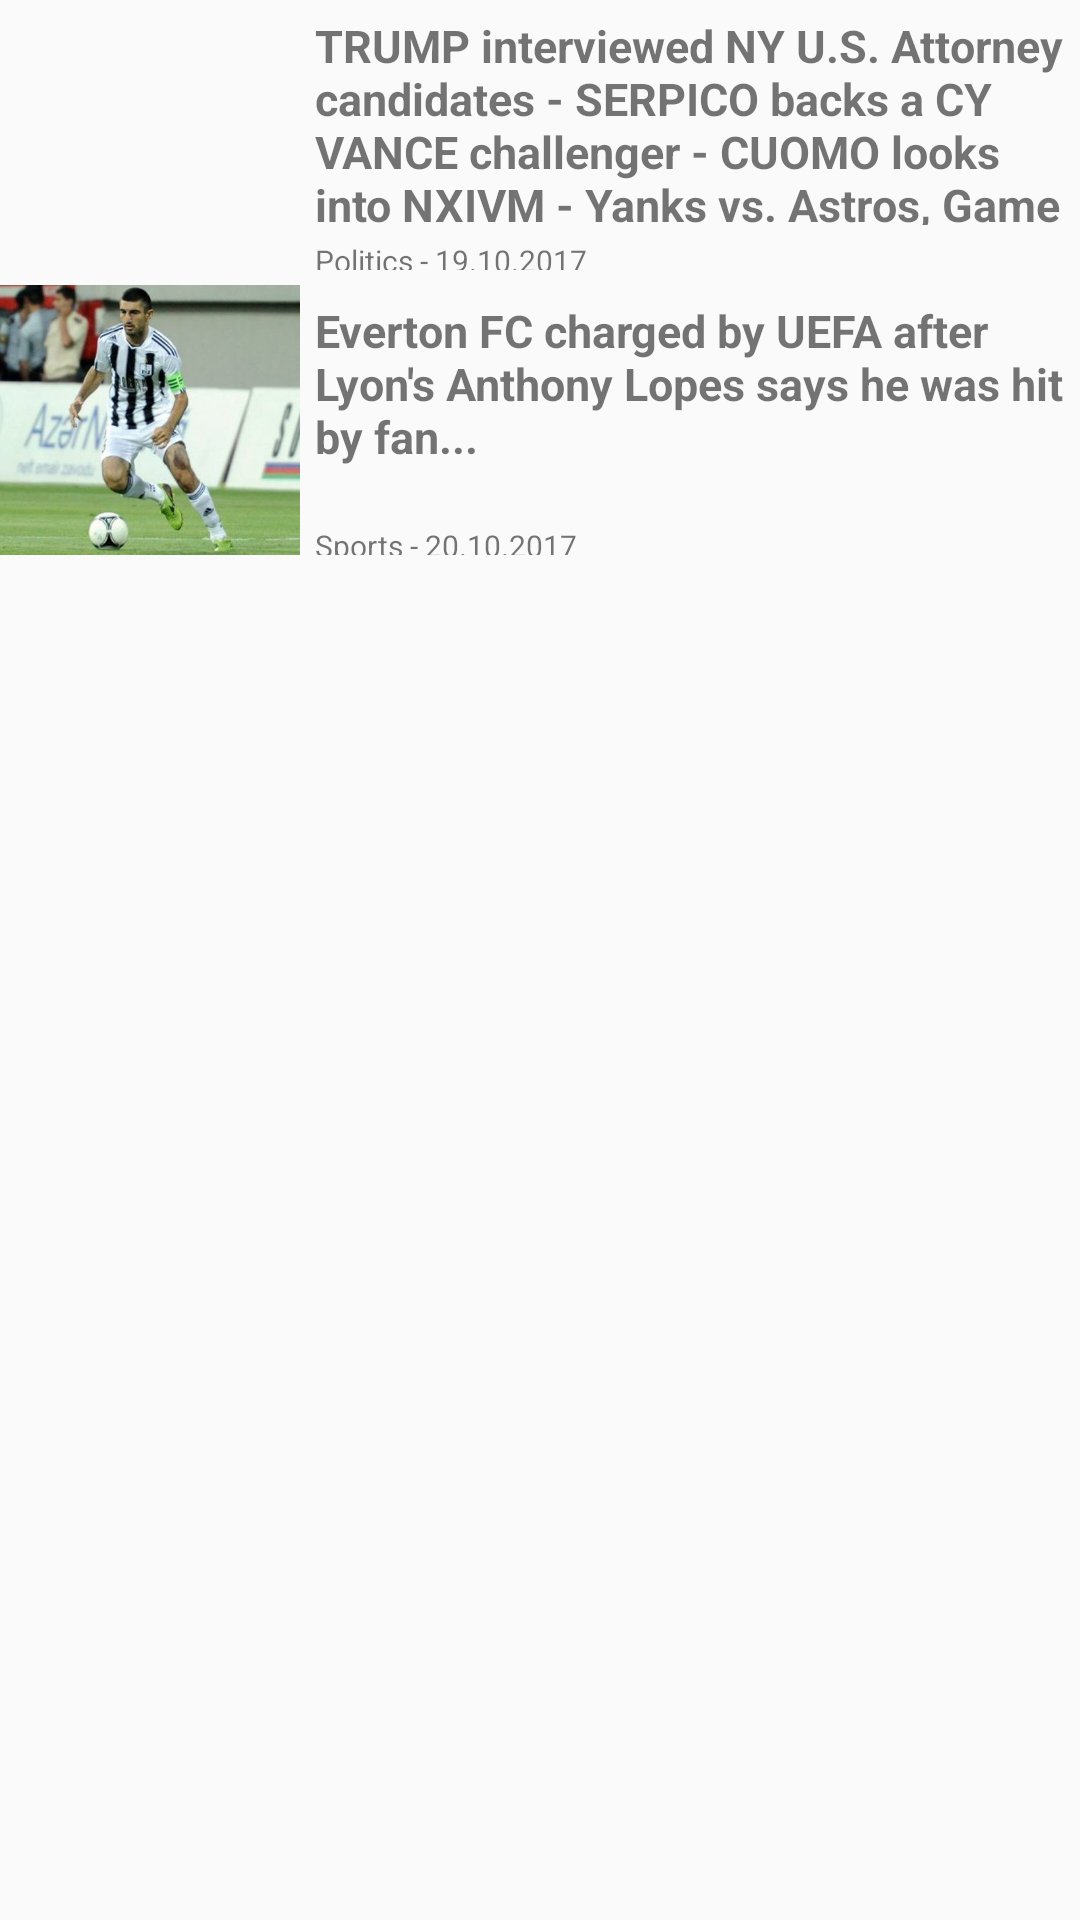

Icons on this 1080×1920 Android screen, each with the point to tap as (x,y):
news: (150,420)
